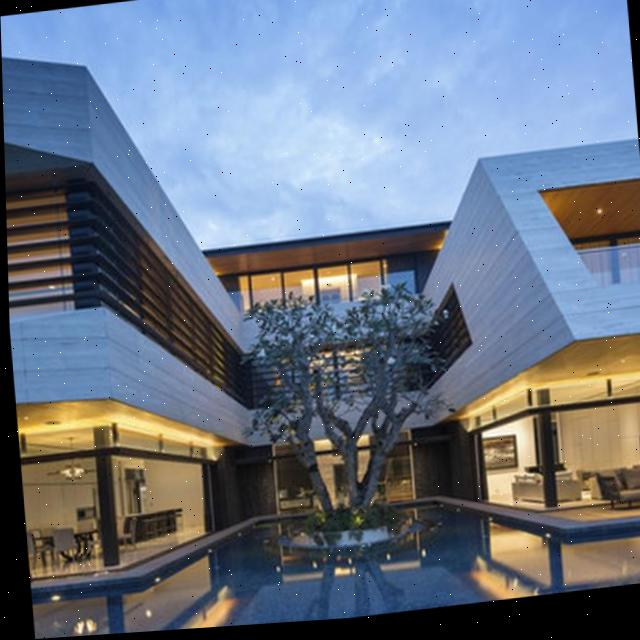building: (1, 0, 640, 608)
